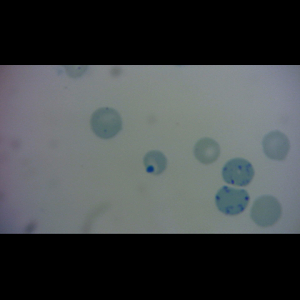aggregate reticulocyte: (213, 184, 251, 216), (220, 156, 256, 187)
erythrocyte: (248, 193, 284, 228), (261, 129, 291, 162), (193, 137, 222, 166), (142, 149, 169, 177)
punctate reticulocyte: (89, 106, 124, 140)
